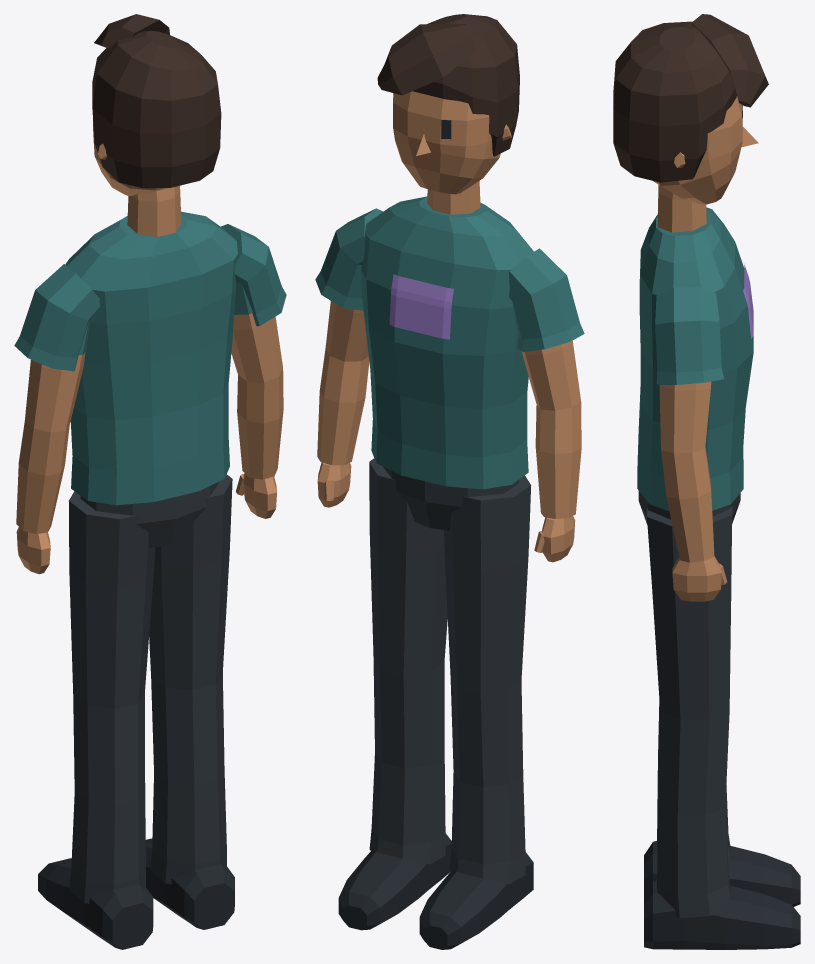
The model's file is lwf_performer_male_body_v2.glb.
3 views of the same model, side by side, from view 1: azimuth 30°, elevation 25°; view 2: azimuth 150°, elevation 25°; view 3: azimuth 270°, elevation 25° (orthographic).
Visible parts, largest first — view 1: LWF_Performer_BodyCore, LWF_Performer_IdleLeftArm, LWF_Performer_IdleRightArm; view 2: LWF_Performer_BodyCore, LWF_Performer_IdleLeftArm, LWF_Performer_IdleRightArm; view 3: LWF_Performer_BodyCore, LWF_Performer_IdleLeftArm, LWF_Performer_IdleRightArm.
Boxes of the visible parts, x1,y1,x2,y2 form: LWF_Performer_BodyCore: (38, 14, 234, 949); LWF_Performer_IdleLeftArm: (14, 211, 237, 574); LWF_Performer_IdleRightArm: (221, 224, 286, 518); LWF_Performer_BodyCore: (338, 14, 533, 949); LWF_Performer_IdleLeftArm: (361, 196, 584, 562); LWF_Performer_IdleRightArm: (315, 208, 383, 507); LWF_Performer_BodyCore: (613, 14, 800, 949); LWF_Performer_IdleLeftArm: (637, 207, 753, 510); LWF_Performer_IdleRightArm: (655, 287, 727, 601).
Size of the model in its own units: 0.5385 by 1.78 by 0.3364.
Materials: 1 (1 with a texture image).
